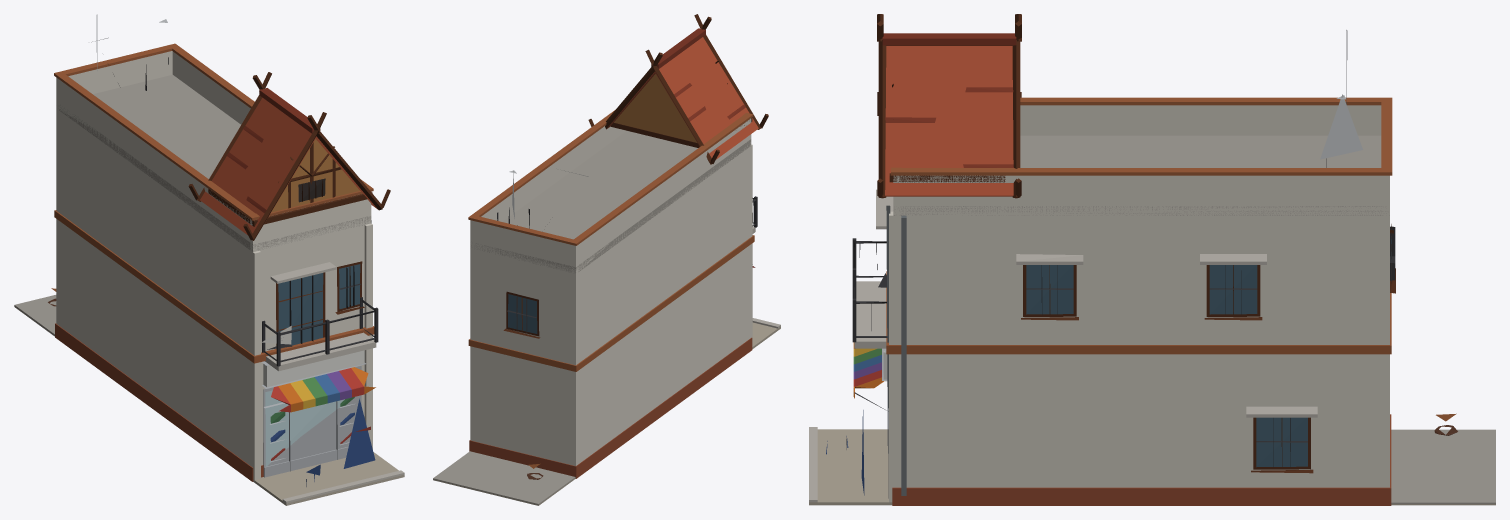
The model's file is bay1_right.glb.
The picture shows the model from 3 angles, left to right: view 1: azimuth 30°, elevation 25°; view 2: azimuth 150°, elevation 25°; view 3: azimuth 270°, elevation 25°; orthographic projection. The views are drawn at different scales.
Visible parts, largest first — view 1: body, windows; view 2: body, windows; view 3: body, windows.
Boxes of the visible parts, left/top/right/bottom form: body: left=14, top=14, right=404, bottom=505; windows: left=278, top=178, right=360, bottom=348; body: left=433, top=14, right=780, bottom=505; windows: left=508, top=294, right=537, bottom=333; body: left=809, top=14, right=1495, bottom=505; windows: left=1026, top=226, right=1391, bottom=467.
Size of the model in its own units: 4.98 by 11.64 by 15.9.
